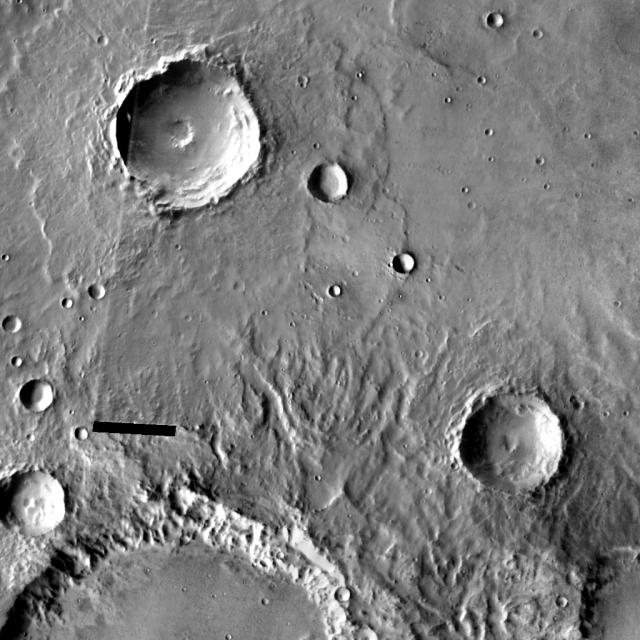crater: (14, 491, 366, 640), (114, 65, 261, 206), (462, 391, 568, 492), (0, 471, 68, 539), (309, 167, 350, 206), (20, 380, 54, 412), (617, 22, 640, 54), (394, 254, 415, 274), (2, 316, 21, 333), (88, 284, 105, 300), (488, 13, 505, 29), (334, 588, 351, 604), (75, 428, 88, 441), (558, 596, 570, 608), (233, 281, 245, 293), (329, 286, 341, 296), (98, 36, 108, 46), (534, 30, 544, 39), (300, 79, 309, 89), (11, 358, 21, 367), (578, 399, 587, 409), (304, 17, 314, 26), (63, 299, 72, 308), (468, 202, 477, 210), (182, 536, 190, 545), (538, 157, 546, 165), (262, 598, 270, 606), (478, 77, 486, 84), (486, 129, 493, 137), (26, 434, 33, 442), (416, 351, 423, 358), (584, 132, 591, 139), (342, 235, 349, 242), (184, 315, 191, 322), (574, 193, 582, 199), (544, 183, 550, 190), (451, 462, 458, 468), (314, 142, 320, 148), (383, 188, 389, 194), (462, 188, 468, 194), (0, 250, 2, 257)
